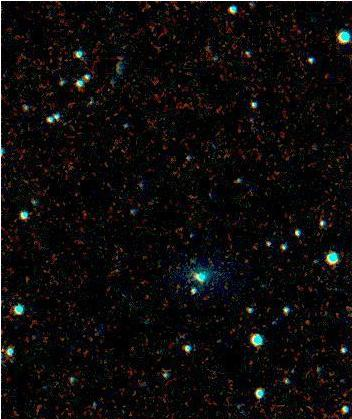star: (179, 261, 209, 291)
